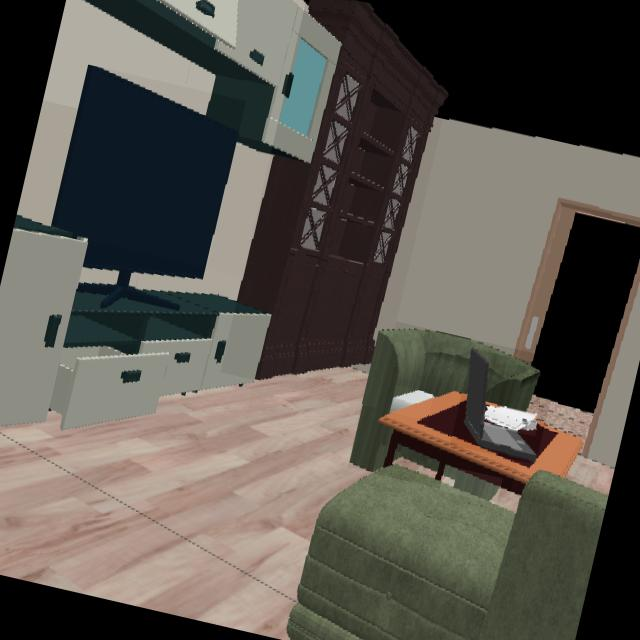book: (482, 404, 536, 433)
bookshelf: (236, 0, 448, 380)
cabinet: (0, 229, 269, 430), (81, 0, 340, 162)
laptop: (465, 348, 537, 463)
monitor: (50, 65, 238, 312)
pillow: (389, 391, 432, 412)
sofa: (285, 464, 608, 640), (349, 331, 538, 473), (442, 465, 500, 501), (393, 445, 438, 470)
table: (377, 391, 583, 496)
